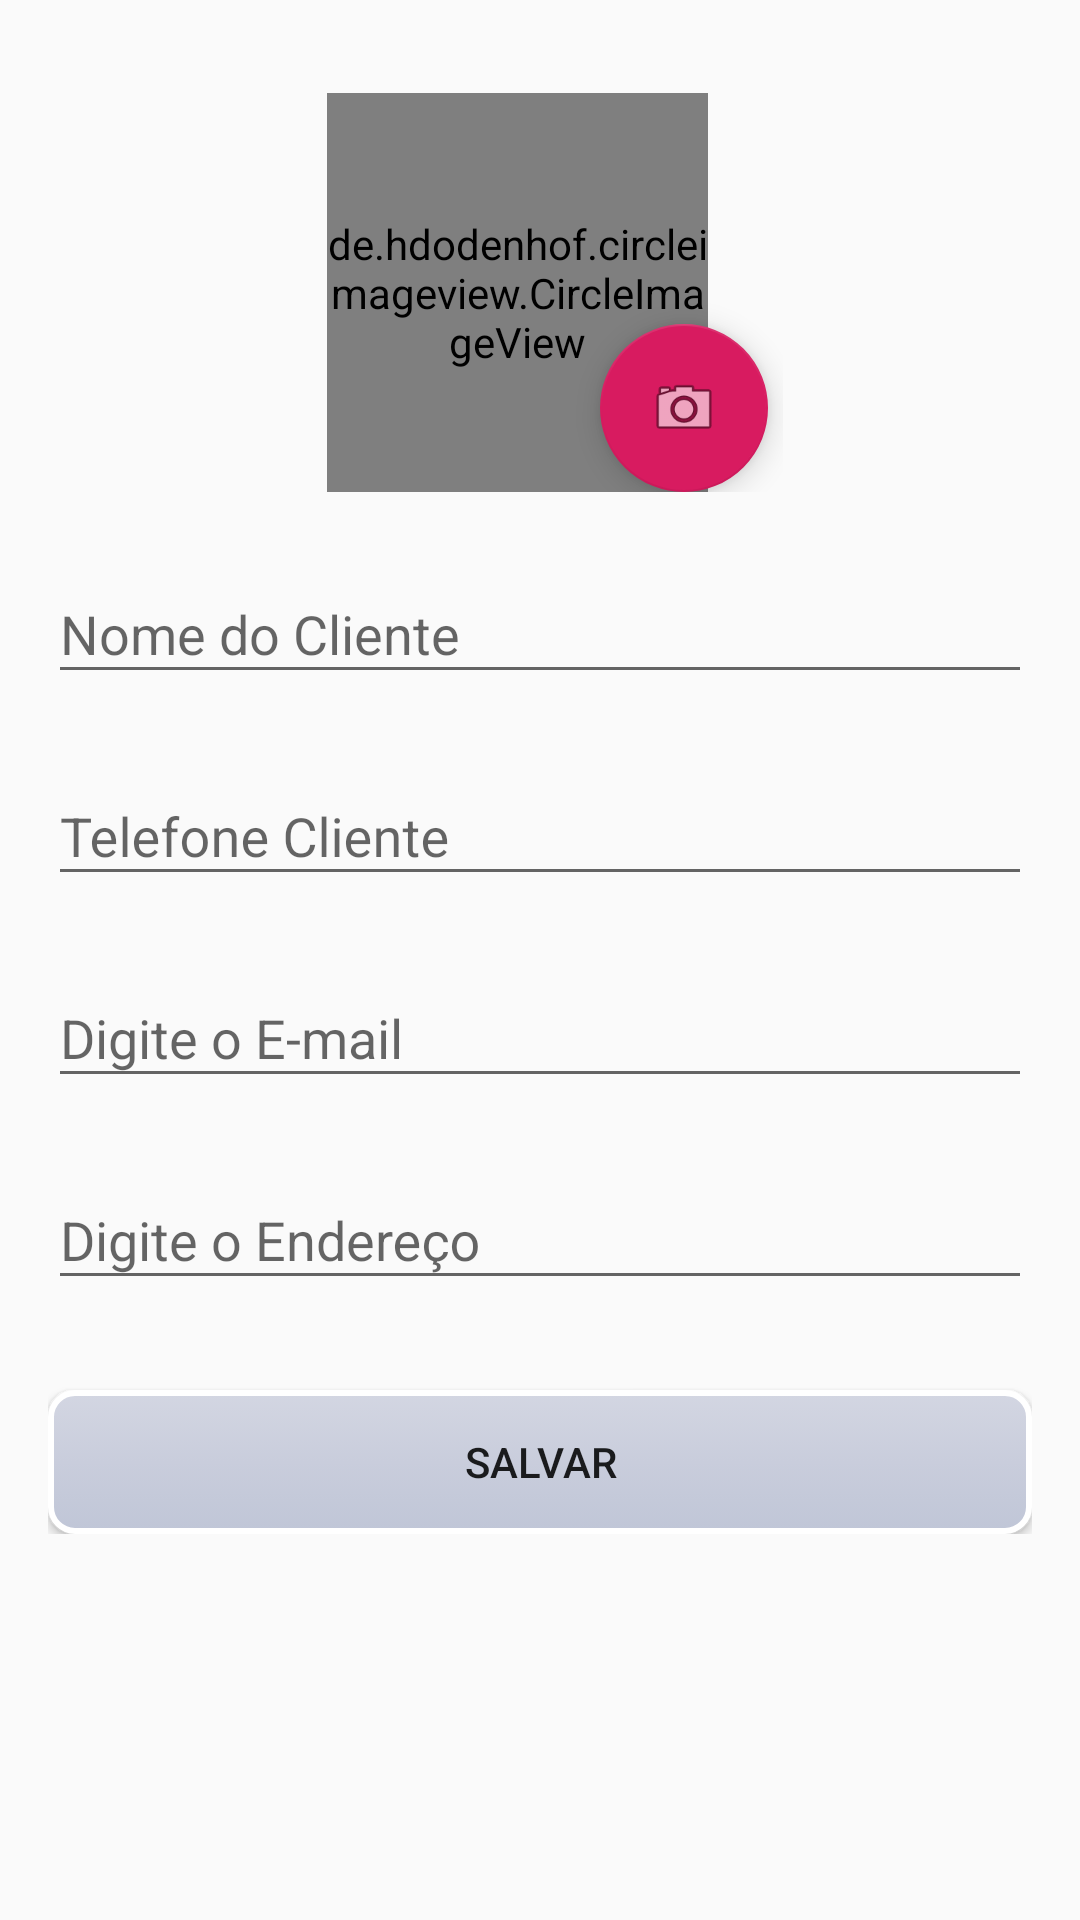

Point at icon controls on the screen. Image size 1080px×1920px, points as [x,y].
camera: [684,408]
